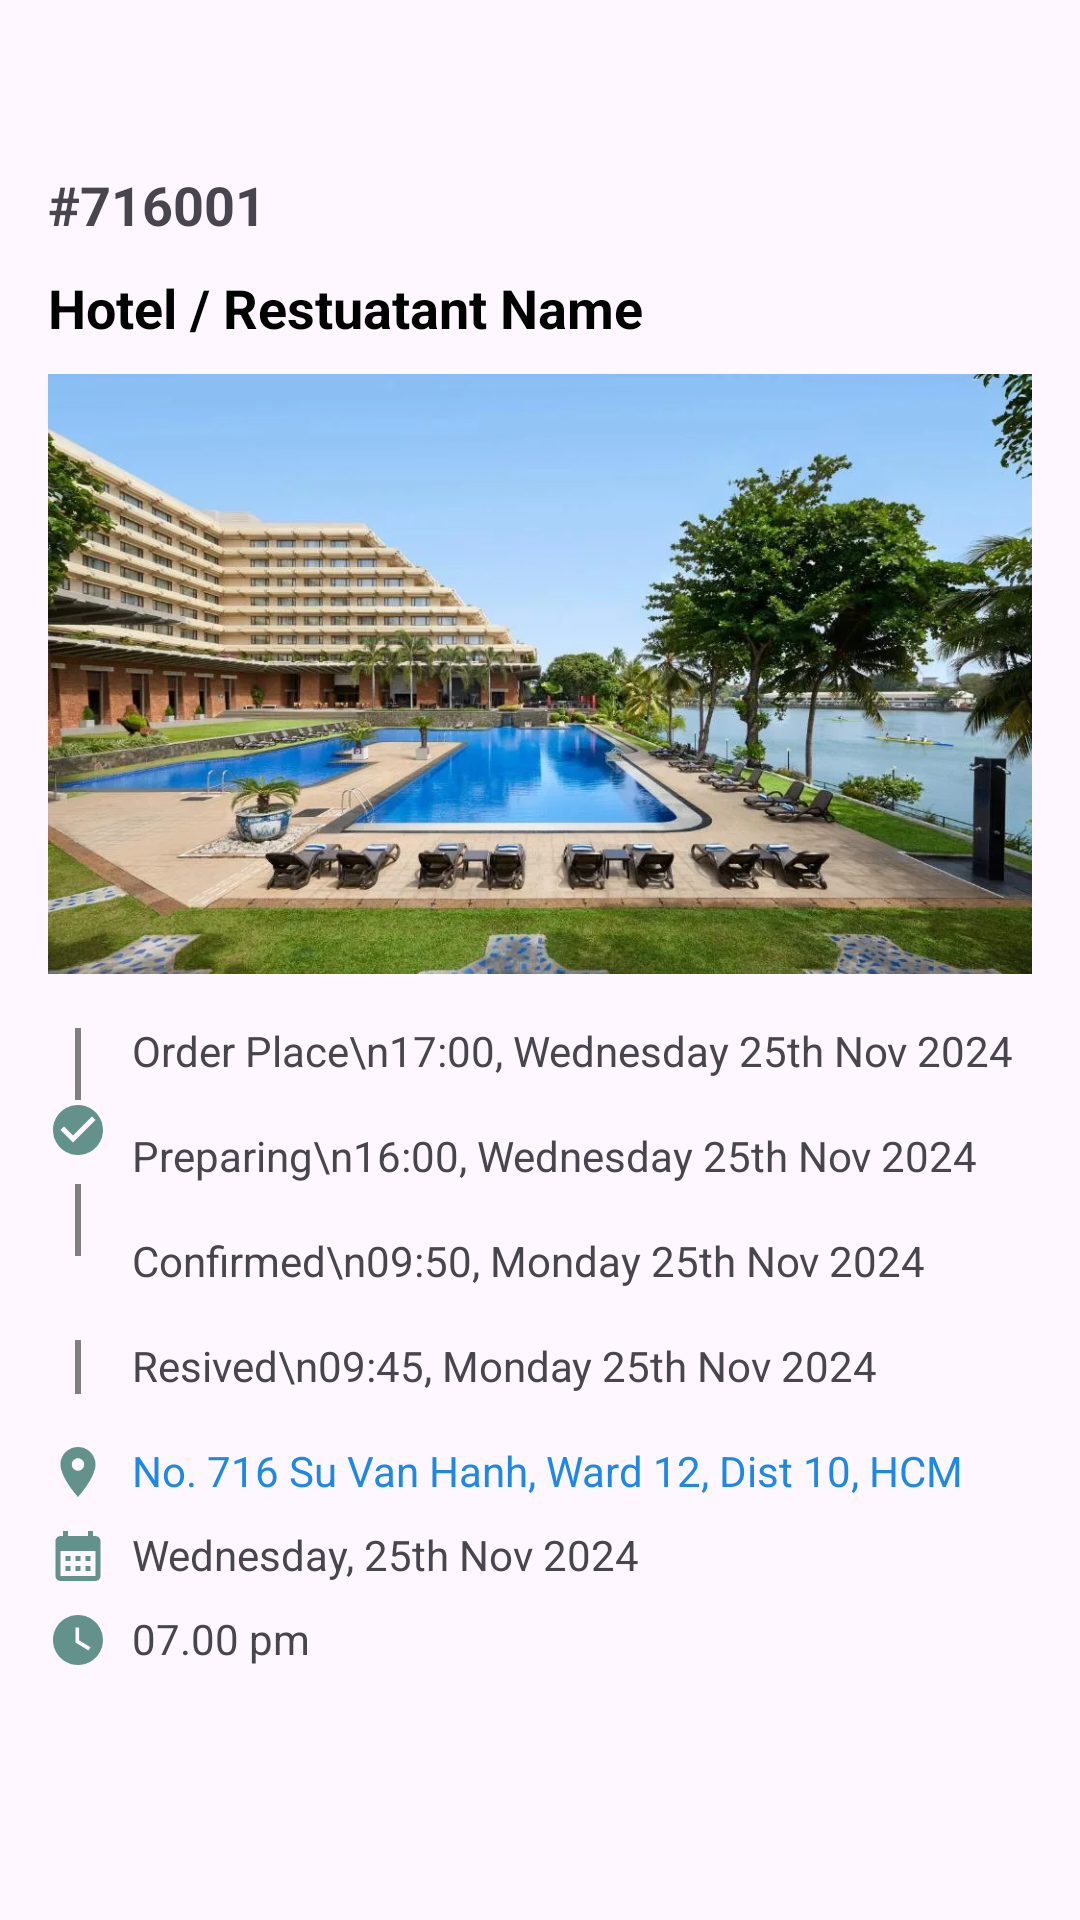

Locate icon controls on the screen. Image size 1080 x 1920, boxes as (x1, y1, x2, y2).
calendar: (55, 1531, 101, 1581)
check: (53, 1105, 103, 1155)
location: (60, 1447, 96, 1497)
time: (53, 1615, 103, 1665)
